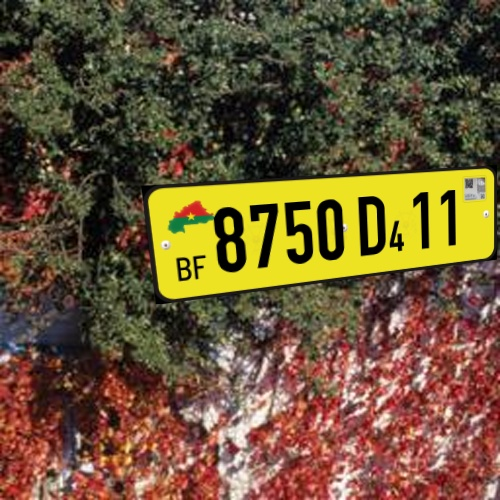plate: (138, 152, 500, 320)
